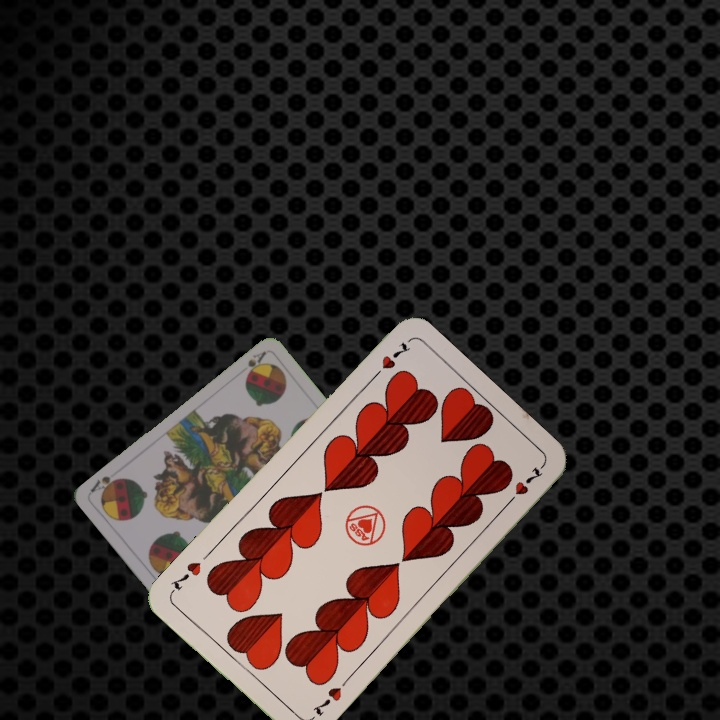H7: (366, 338, 414, 384), (308, 675, 351, 719)
SA: (243, 347, 268, 379)
